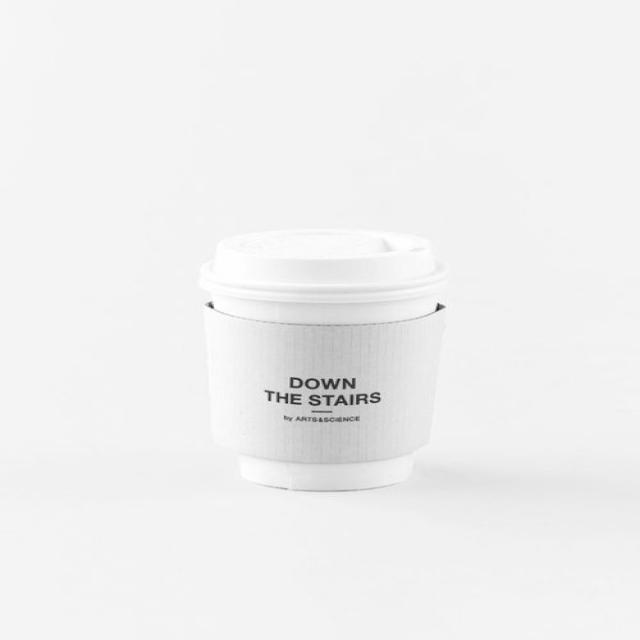paper cup: (199, 227, 453, 492)
